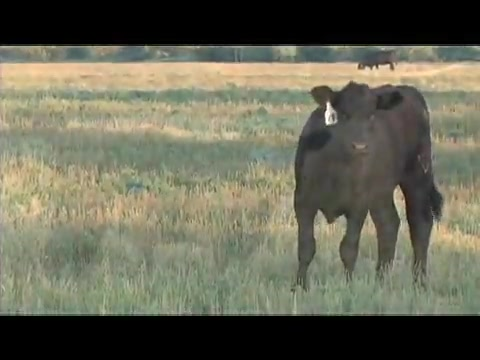cow: (293, 82, 445, 291), (356, 50, 400, 73)
